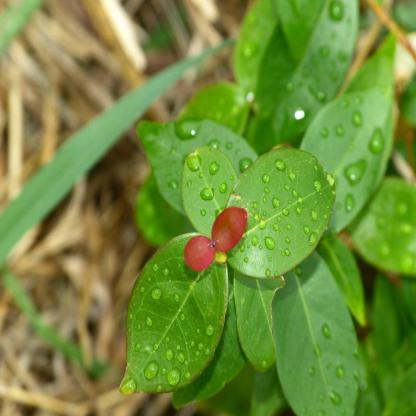Cherry leaf: (114, 234, 231, 399), (267, 235, 369, 416), (222, 141, 342, 272)
